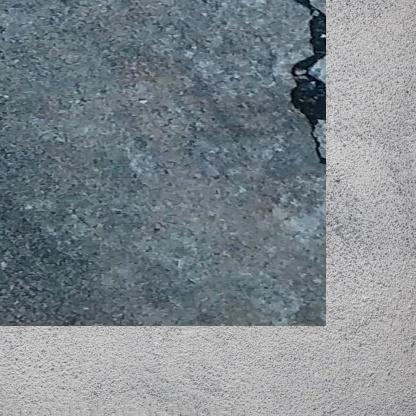Cracks: (265, 0, 301, 155)
